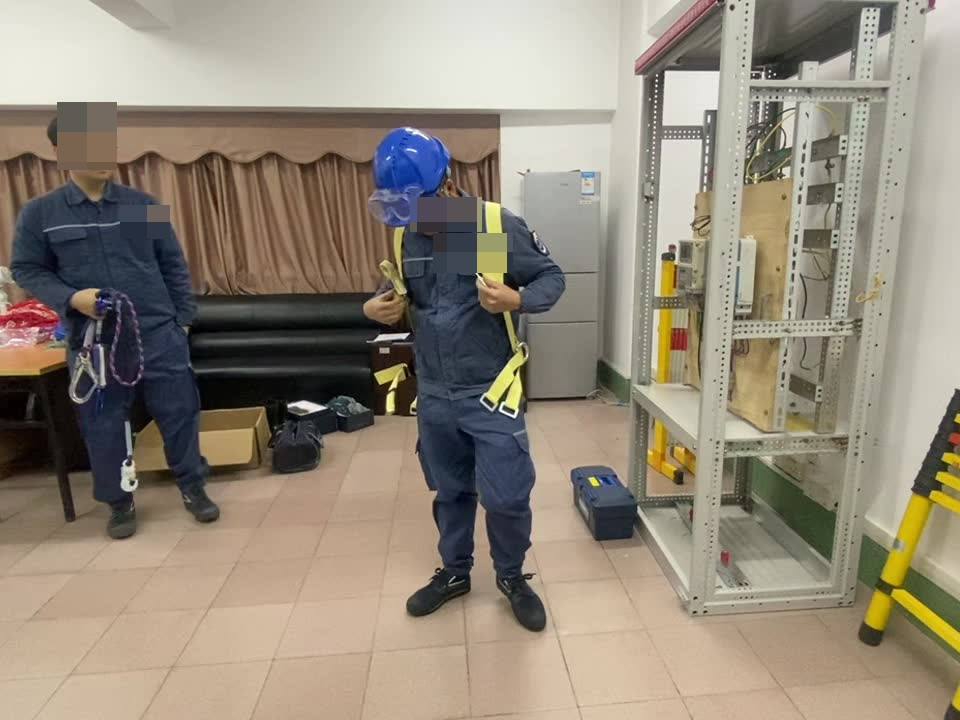downsuit: (416, 413, 541, 577), (85, 340, 213, 498)
halt: (371, 128, 453, 233), (50, 111, 118, 182)
hand: (476, 281, 518, 314), (65, 286, 109, 316), (363, 292, 402, 324)
inear: (437, 173, 461, 214)
noear: (50, 131, 94, 178)
person: (367, 126, 567, 620), (14, 113, 224, 532)
safebelt: (368, 194, 530, 413)
sleeve: (529, 230, 550, 255)
unhalt: (48, 111, 117, 184)
upsuit: (393, 186, 567, 399), (17, 184, 195, 330)
